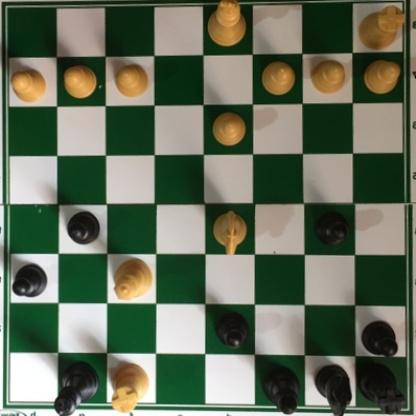black-bishop: (261, 363, 302, 415)
black-king: (50, 359, 98, 415)
black-knight: (314, 362, 354, 415)
black-pawn: (312, 211, 351, 247), (362, 321, 398, 359), (213, 311, 247, 350), (11, 263, 48, 298), (65, 212, 100, 247)
black-rook: (355, 362, 404, 415)
white-king: (205, 0, 247, 48)
white-knight: (212, 208, 248, 259)
white-pawn: (258, 59, 297, 99), (60, 62, 99, 101), (359, 62, 402, 97), (8, 69, 48, 106), (210, 113, 248, 149), (113, 64, 150, 100), (310, 58, 346, 94)
white-queen: (111, 256, 154, 302)
white-rook: (354, 5, 406, 55), (105, 362, 148, 415)
